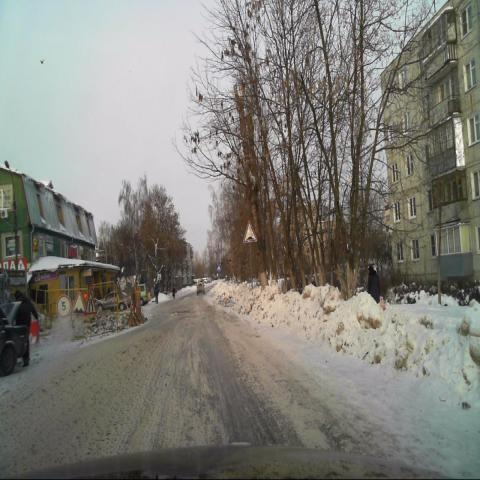1_17: (243, 221, 258, 243)
1_20: (86, 291, 96, 314)
